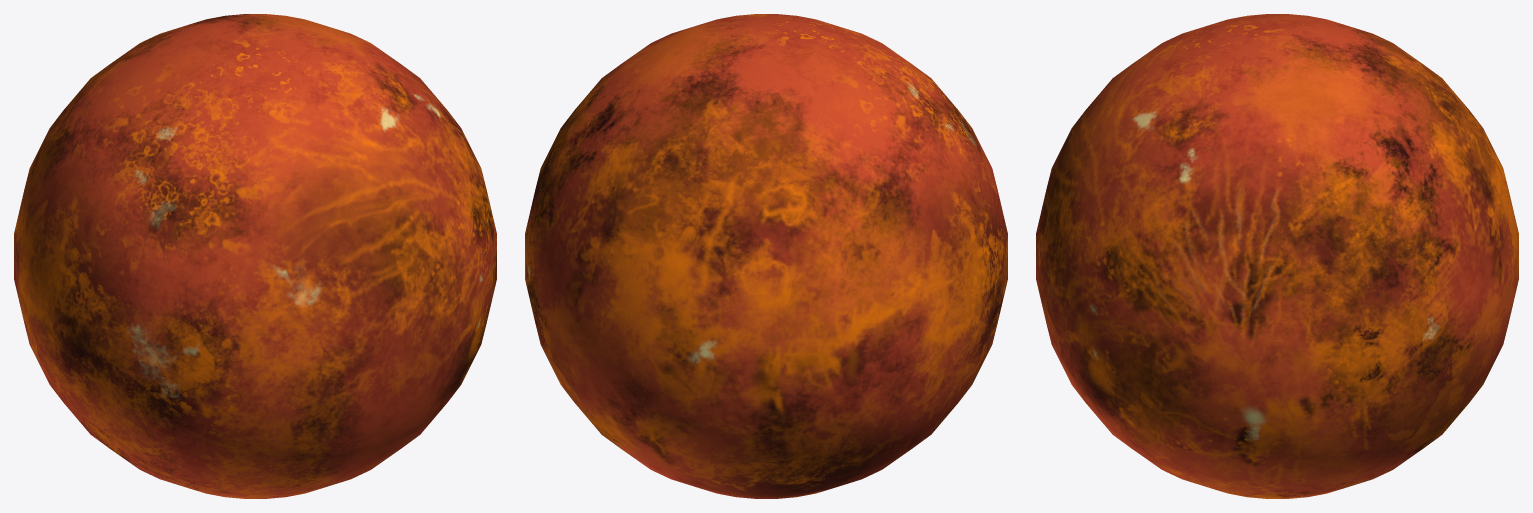
The model's file is venus.glb.
The picture shows the model from 3 angles, left to right: view 1: azimuth 30°, elevation 25°; view 2: azimuth 150°, elevation 25°; view 3: azimuth 270°, elevation 25°; orthographic projection.
Parts seen in each view (by area): view 1: New; view 2: New; view 3: New.
Boxes of the visible parts, bbox=[...] form: New: bbox=[14, 14, 496, 498]; New: bbox=[525, 14, 1007, 498]; New: bbox=[1036, 14, 1518, 498].
Bounding box in the file's own units: 1.2 × 1.22 × 1.21.
Materials: 1 (1 with a texture image).
